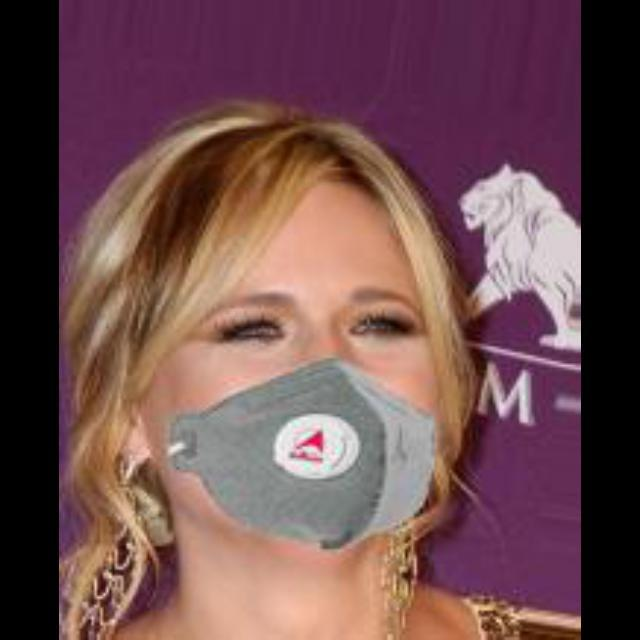suspicion: (120, 126, 507, 554)
